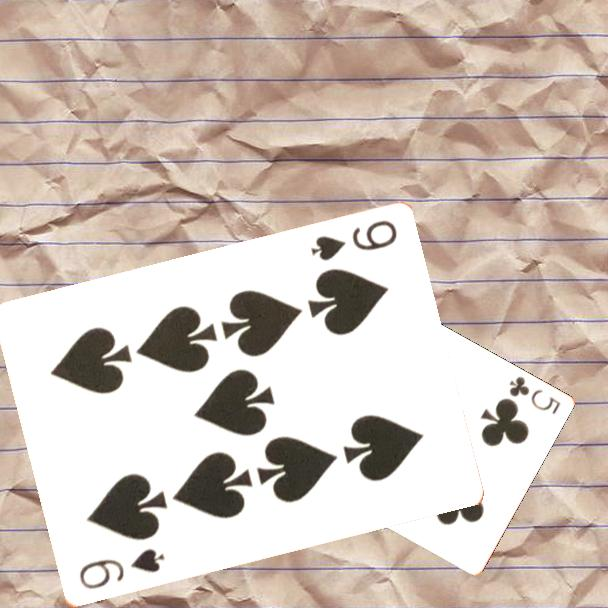c05: (505, 373, 563, 418)
s09: (75, 545, 167, 593), (307, 217, 400, 264)
